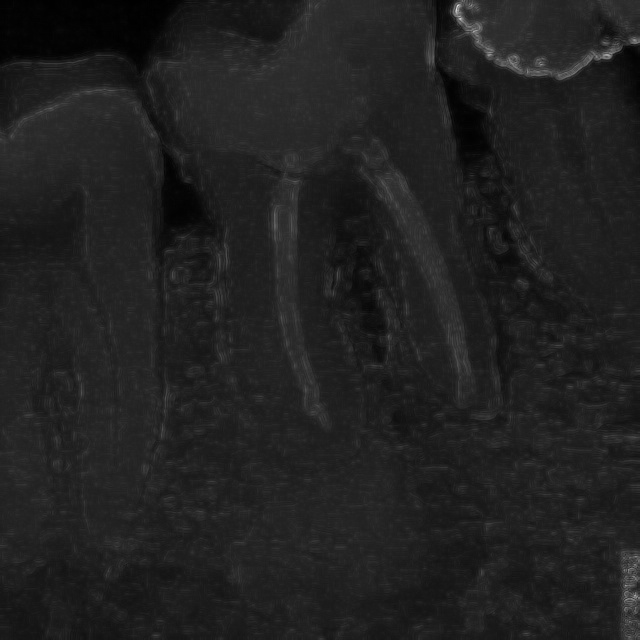Class 0- No endodontic treatment: (139, 19, 585, 504)
